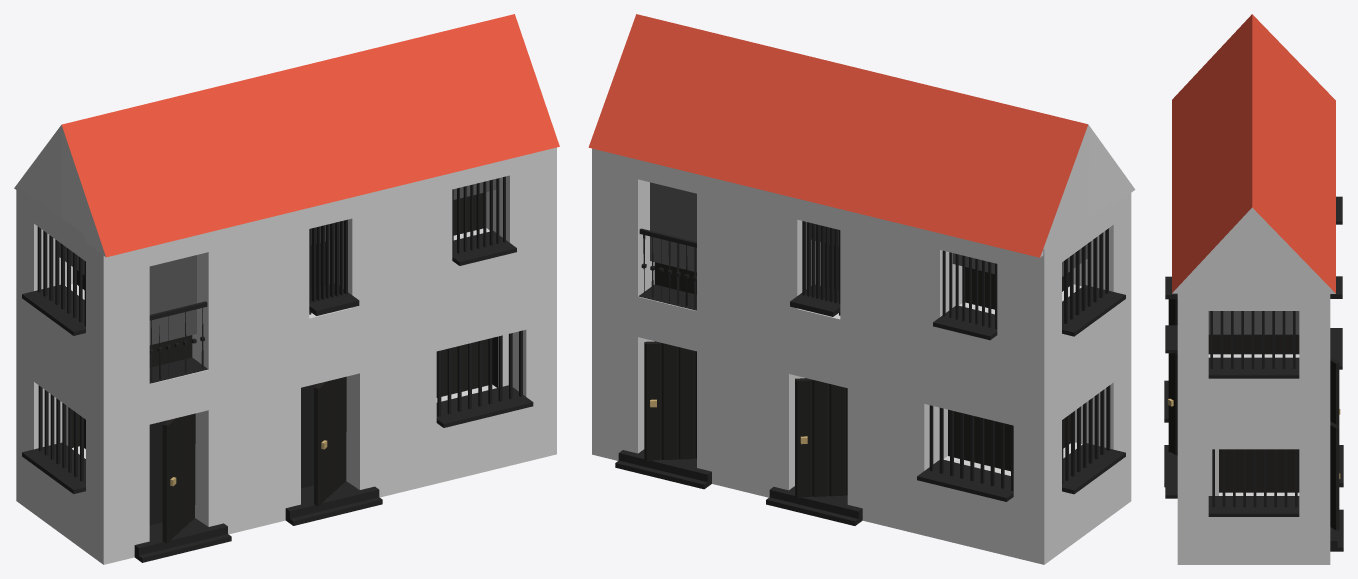
Rendered from casa procedural_relleno_5.fbx.
3 renders of one model, left to right at view 1: azimuth 30°, elevation 25°; view 2: azimuth 150°, elevation 25°; view 3: azimuth 270°, elevation 25°, orthographic. The views are drawn at different scales.
Visible parts, largest first — view 1: Procedural_Building_straight; view 2: Procedural_Building_straight; view 3: Procedural_Building_straight.
Boxes of the visible parts, bbox=[...] form: Procedural_Building_straight: bbox=[14, 14, 559, 564]; Procedural_Building_straight: bbox=[588, 14, 1135, 564]; Procedural_Building_straight: bbox=[1164, 14, 1343, 564].
Size of the model in its own units: 316 by 259 by 118.
